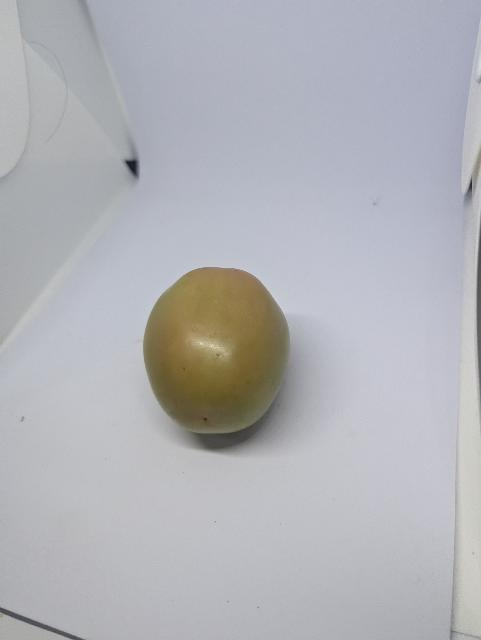breaker: (136, 261, 309, 464)
